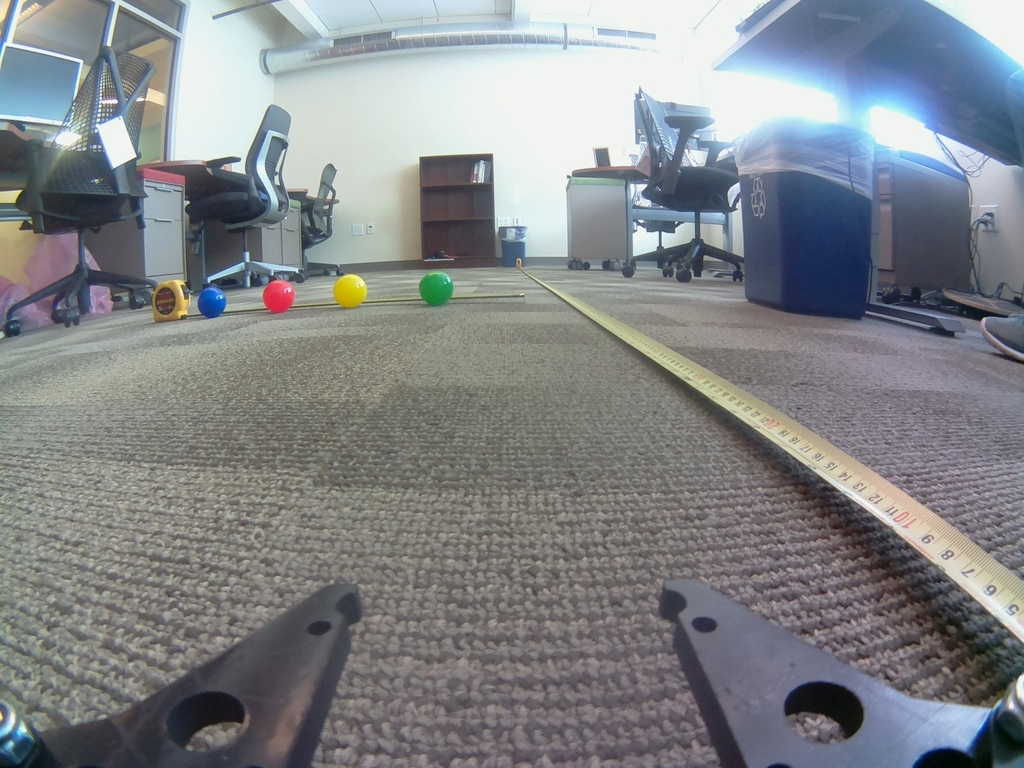ball: (197, 285, 227, 318)
